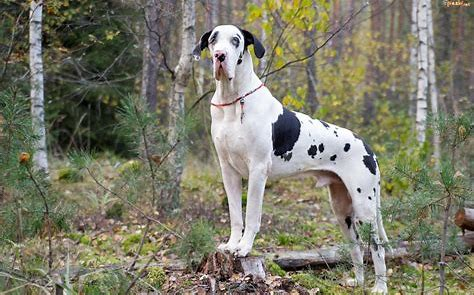dog: (168, 31, 405, 294)
